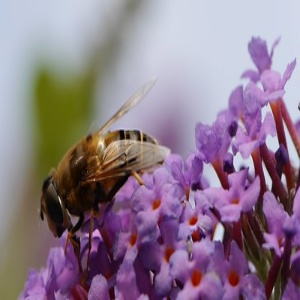bee: (33, 78, 172, 276)
